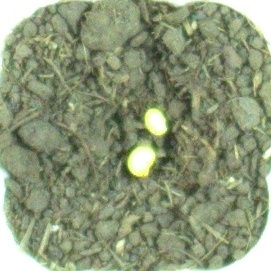chilli seed: (126, 144, 157, 179), (143, 106, 169, 138)
